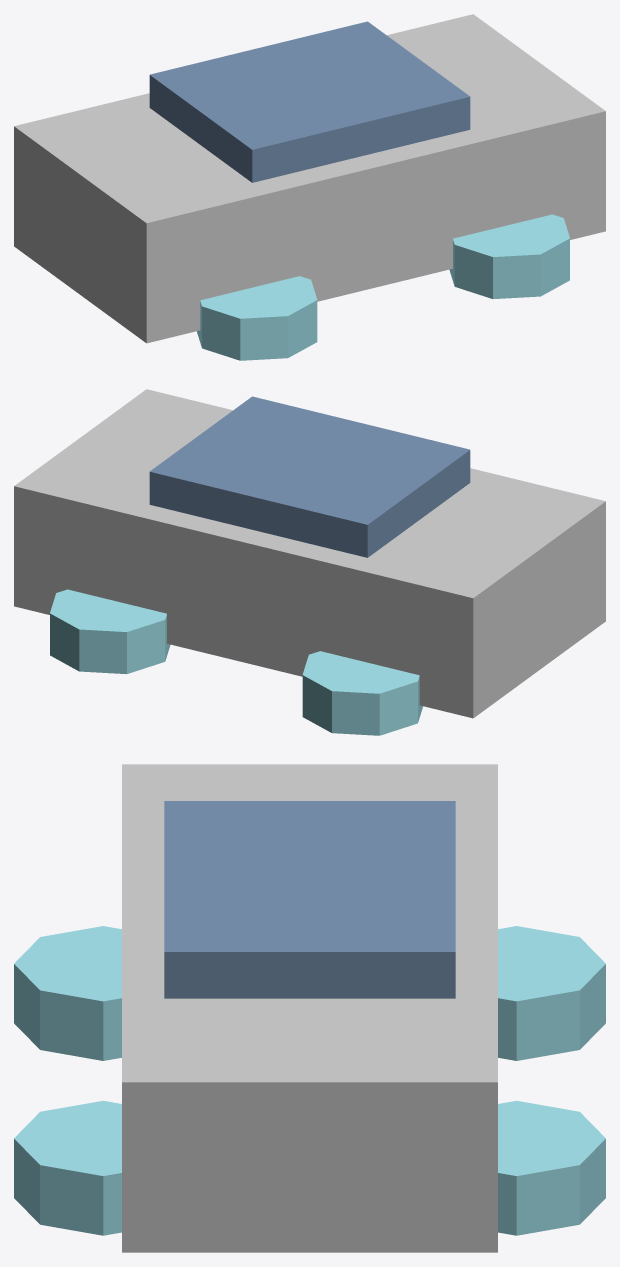
The model's file is vehiculo_trafico.glb.
3 views of the same model, one above another, from view 1: azimuth 30°, elevation 25°; view 2: azimuth 150°, elevation 25°; view 3: azimuth 270°, elevation 25° (orthographic). The views are drawn at different scales.
Visible parts, largest first — view 1: vehiculo_trafico; view 2: vehiculo_trafico; view 3: vehiculo_trafico.
Part boxes in pixels (box(x1,y1,x2,y2)): vehiculo_trafico: box(14, 14, 605, 360); vehiculo_trafico: box(14, 389, 605, 735); vehiculo_trafico: box(14, 764, 605, 1252).
Size of the model in its own units: 0.8 by 0.275 by 0.63.
